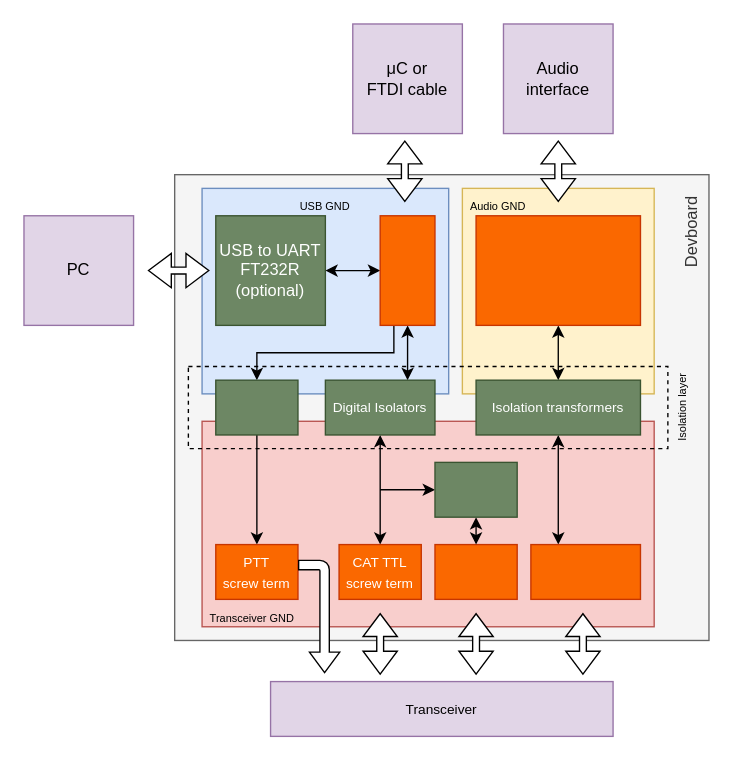
Image size: 733x760. Some labels were removed from this diagram. Each missing label, with the centre of its shape:
Audio screw term: the point at 585,571
CAT RS232 screw term: the point at 475,571
CITA/OMTP selector 1/2 connector selector L/R channel selector: the point at 557,269
FTDI 6pin hdr: the point at 407,269
Push to Talk SSR: the point at 256,407
RS232 line driver: the point at 475,489
